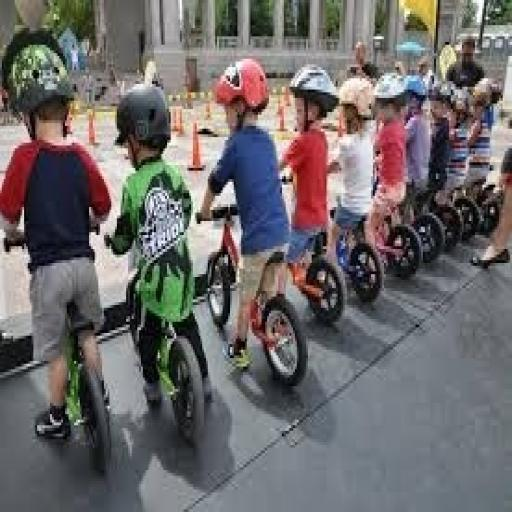cycling: (0, 25, 115, 445), (104, 81, 215, 417), (195, 56, 295, 375), (292, 50, 340, 336), (366, 70, 414, 269)
